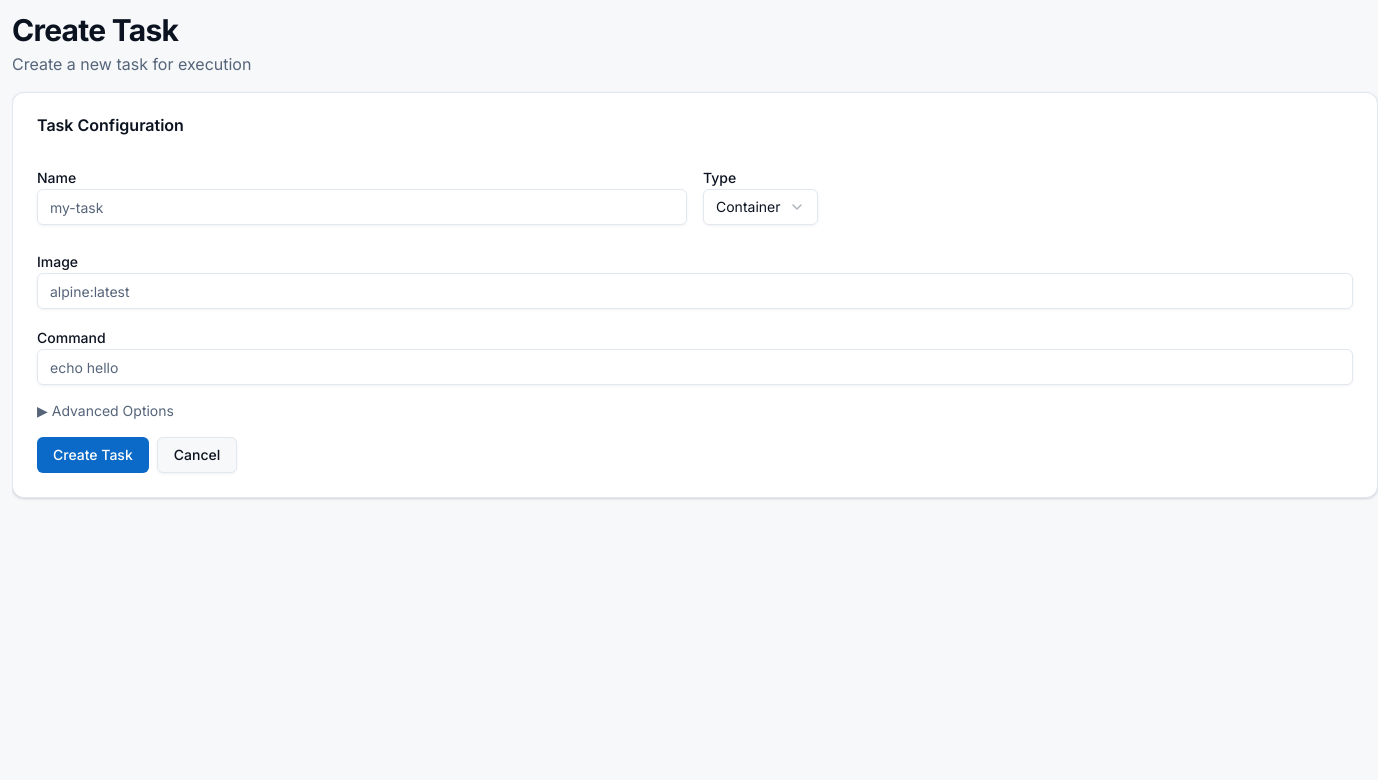
it: TaskCreateForm › Agent type shows agent reference and prompt fields
Press the mouse on the dropdown labelled "Container" at [760, 207], box [703,189,818,225]
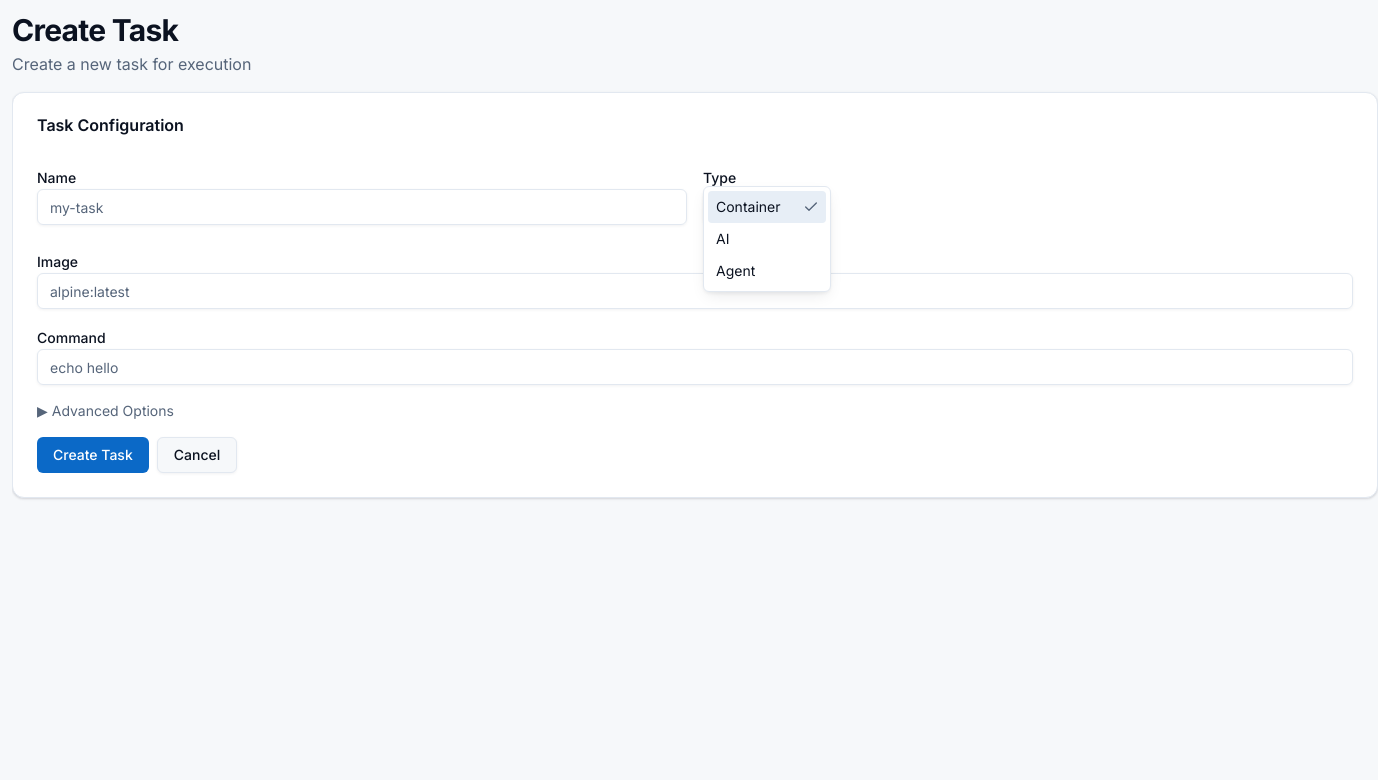
Expected: the option "Agent" is shown
Click the option "Agent" at [736, 270], box [716,262,755,279]
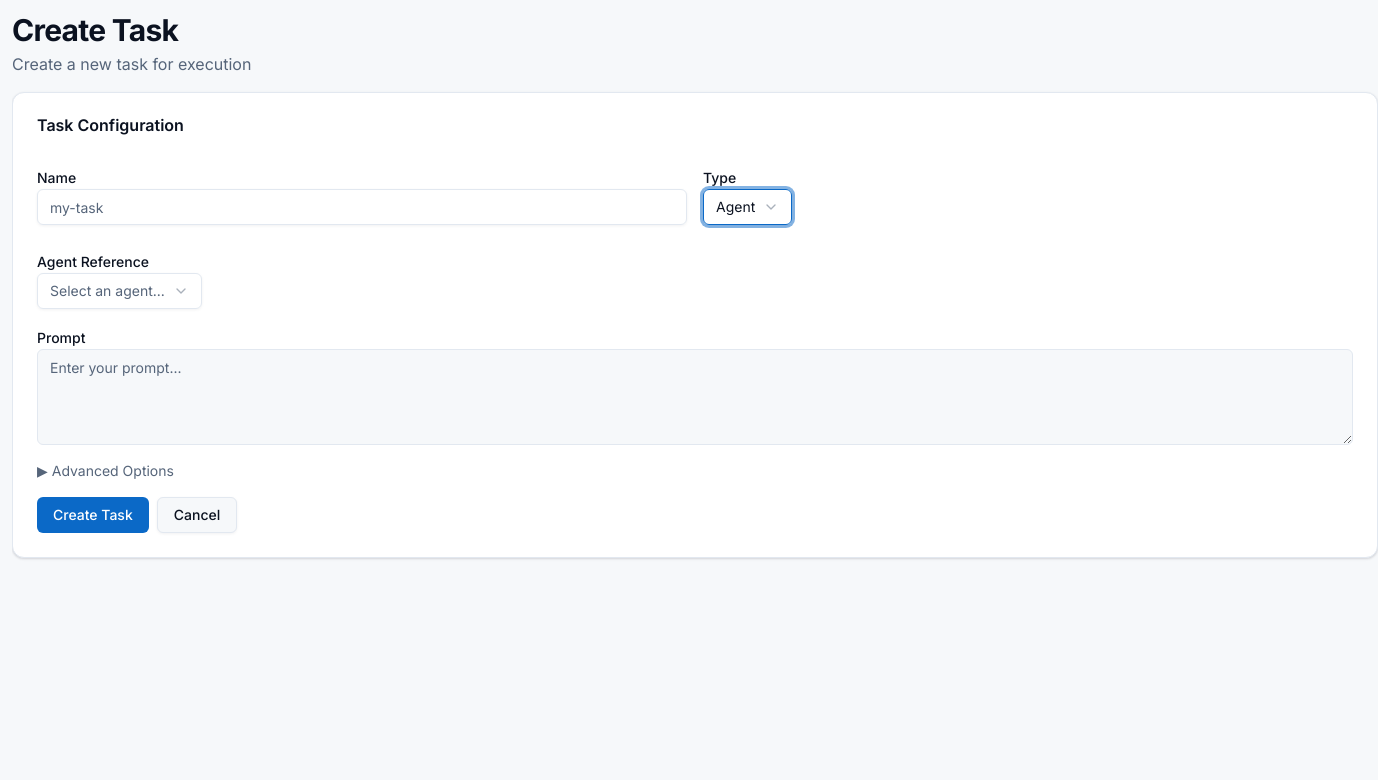
Expected: the text "Agent Reference" is shown, [37,253,149,270]
Expected: the text "Prompt" is shown, [37,329,86,346]
